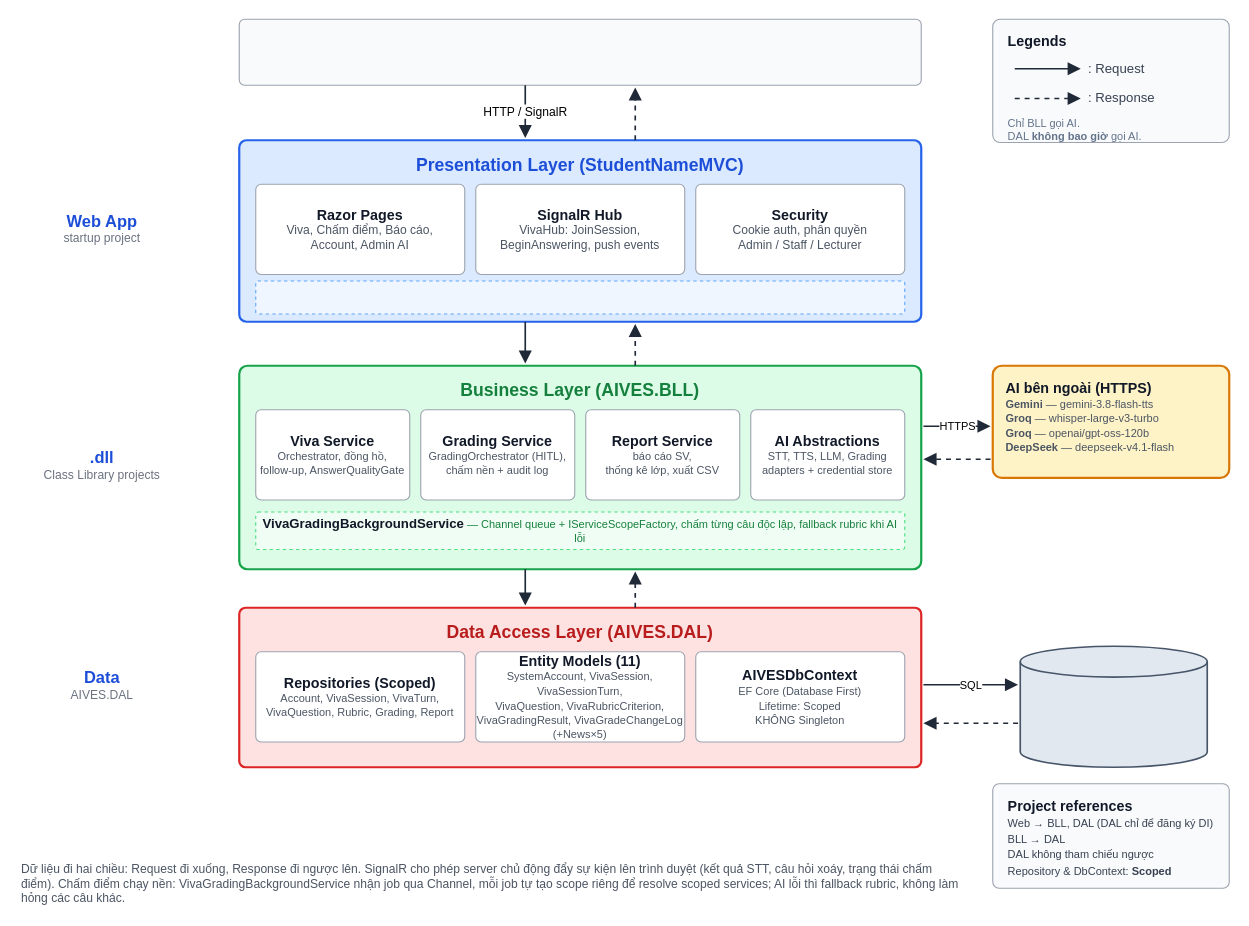
Some shapes in this 1249 by 926 pixel diagram are drawn without their labels. Here are the shapes that lost their labels. From the top down, the centre of each, then its label:
[579,51]: Trình duyệt (người dùng) HTML, Bootstrap, SignalR client, ghi âm JS
[580,297]: VivaTimerWorker BackgroundService — đếm ngược, hết giờ tự chuyển câu
[1113,706]: SQL Server AIVES (DB) 6 Viva + 5 News 9 rubric seeded
